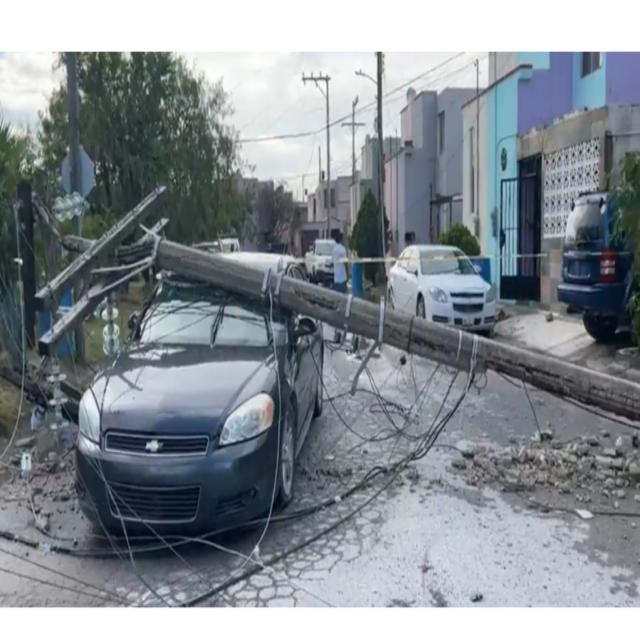Inclined Pole: (26, 180, 640, 425)
